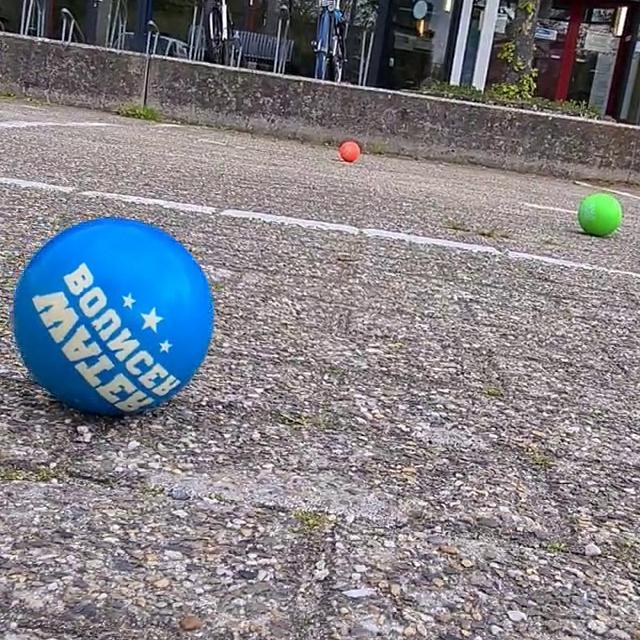ball: (578, 190, 624, 239), (336, 135, 364, 166)
